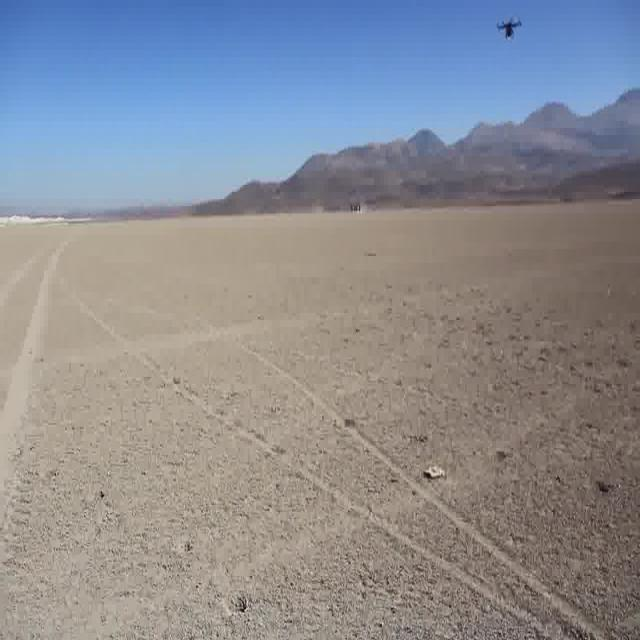drones: (492, 8, 527, 49)
